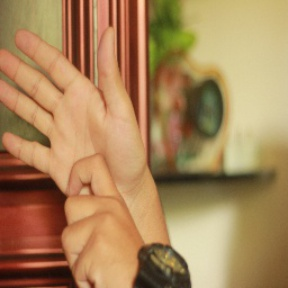R: (2, 27, 144, 277)
